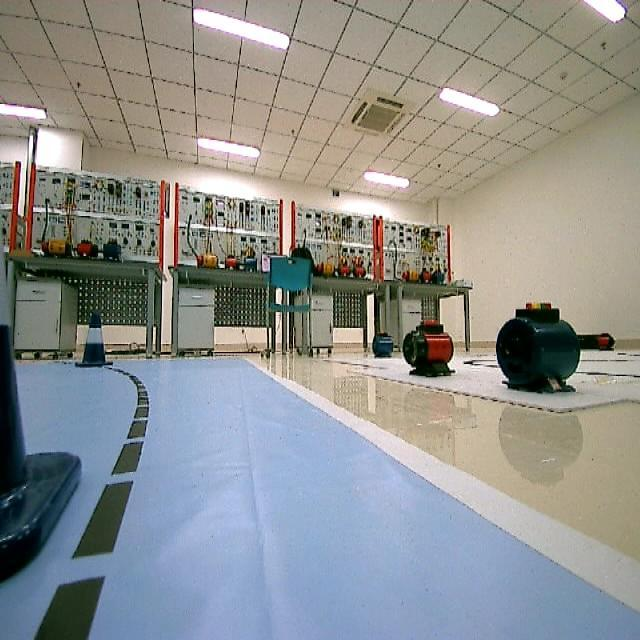obstacle: (74, 312, 112, 370)
